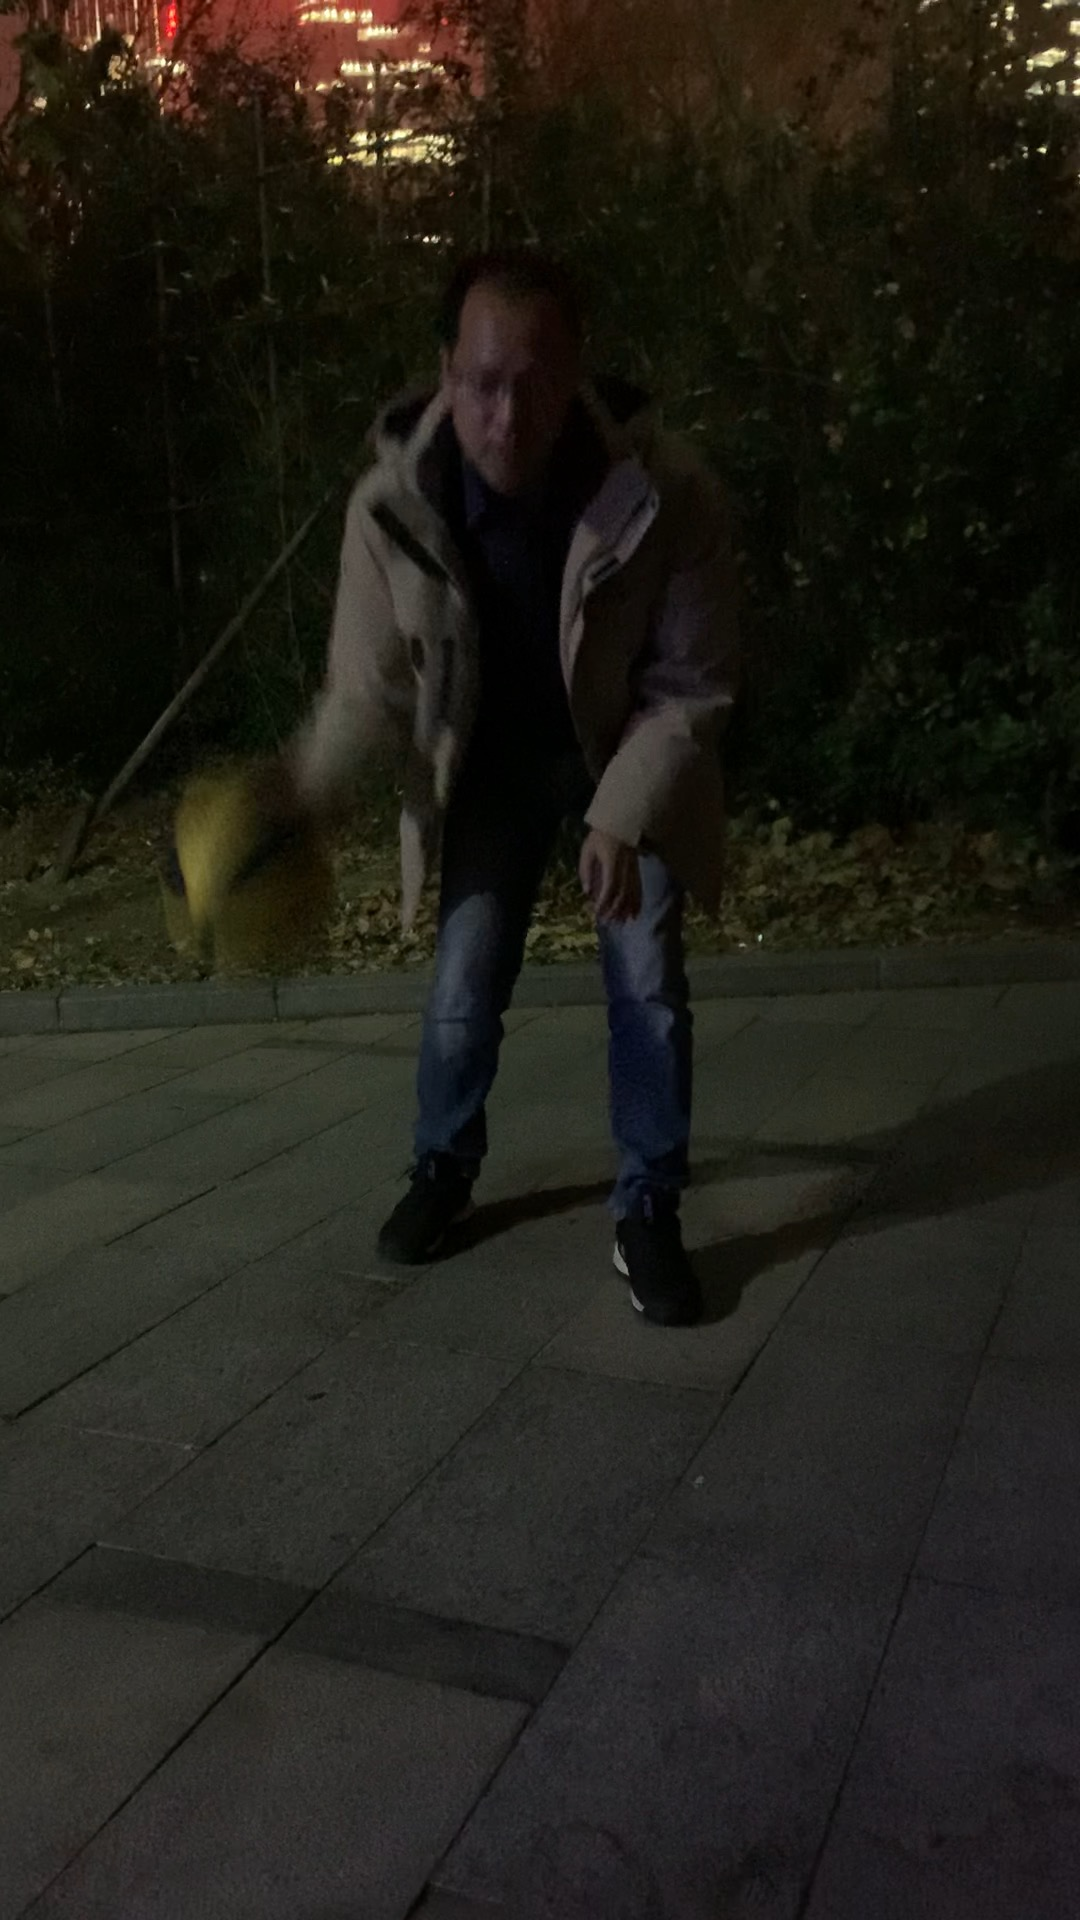ball: (154, 778, 344, 965)
